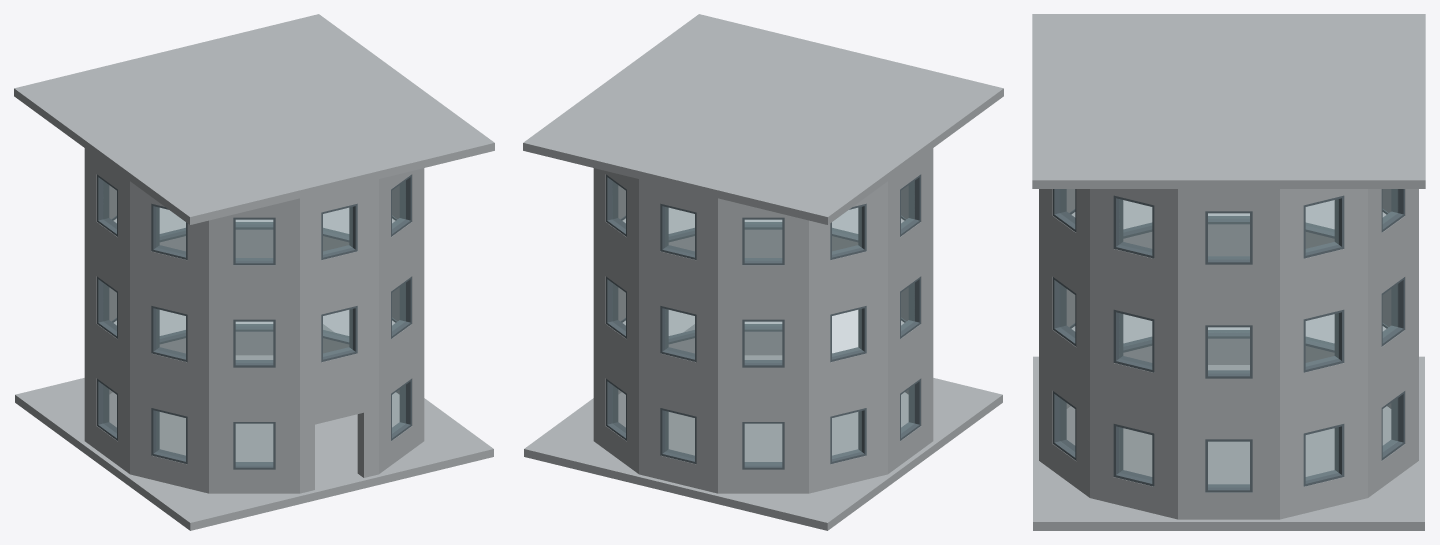
The model's file is tower_3_lod1.glb.
3 views of the same model, side by side, from view 1: azimuth 30°, elevation 25°; view 2: azimuth 150°, elevation 25°; view 3: azimuth 270°, elevation 25° (orthographic). The views are drawn at different scales.
Parts seen in each view (by area): view 1: Ceiling baked, Wall_11 baked, Floor baked, Wall_0 baked, Wall_10 baked, Wall_9 baked, Wall_1 baked, Wall_5 baked, Glazing.032 baked, Glazing.033 baked, Glazing.034 baked, Glazing.029 baked (+7 smaller); view 2: Ceiling baked, Wall_7 baked, Wall_6 baked, Floor baked, Wall_8 baked, Wall_9 baked, Wall_5 baked, Wall_1 baked, Glazing.020 baked, Glazing.021 baked, Glazing.022 baked, Glazing.017 baked (+7 smaller); view 3: Ceiling baked, Wall_3 baked, Wall_2 baked, Wall_4 baked, Floor baked, Wall_1 baked, Wall_5 baked, Wall_9 baked, Glazing.009 baked, Glazing.010 baked, Glazing.008 baked, Glazing.005 baked (+27 smaller).
Boxes of the visible parts, x1,y1,x2,y2 form: Ceiling baked: (14, 14, 494, 224); Wall_11 baked: (209, 198, 299, 493); Floor baked: (15, 324, 493, 530); Wall_0 baked: (300, 179, 378, 493); Wall_10 baked: (130, 181, 208, 493); Wall_9 baked: (84, 148, 129, 473); Wall_1 baked: (379, 168, 424, 473); Wall_5 baked: (235, 229, 273, 355); Glazing.032 baked: (236, 424, 272, 464); Glazing.033 baked: (236, 322, 272, 362); Glazing.034 baked: (236, 220, 272, 260); Glazing.029 baked: (156, 411, 185, 458); Ceiling baked: (523, 14, 1003, 224); Wall_7 baked: (718, 198, 808, 493); Wall_6 baked: (639, 179, 717, 493); Floor baked: (524, 324, 1002, 530); Wall_8 baked: (809, 181, 887, 493); Wall_9 baked: (888, 148, 933, 473); Wall_5 baked: (593, 168, 638, 473); Wall_1 baked: (744, 229, 782, 355); Glazing.020 baked: (745, 424, 781, 464); Glazing.021 baked: (745, 322, 781, 362); Glazing.022 baked: (745, 220, 781, 260); Glazing.017 baked: (665, 411, 694, 458); Ceiling baked: (1032, 14, 1425, 188); Wall_3 baked: (1178, 189, 1279, 519); Wall_2 baked: (1090, 189, 1177, 519); Wall_4 baked: (1280, 189, 1367, 519); Floor baked: (1033, 356, 1424, 530); Wall_1 baked: (1039, 189, 1089, 497); Wall_5 baked: (1368, 189, 1418, 497); Wall_9 baked: (1208, 224, 1249, 364); Glazing.009 baked: (1208, 327, 1249, 373); Glazing.010 baked: (1208, 213, 1249, 259); Glazing.008 baked: (1208, 442, 1249, 487); Glazing.005 baked: (1119, 427, 1151, 480).
Size of the model in its own units: 10 by 9.85 by 10.
